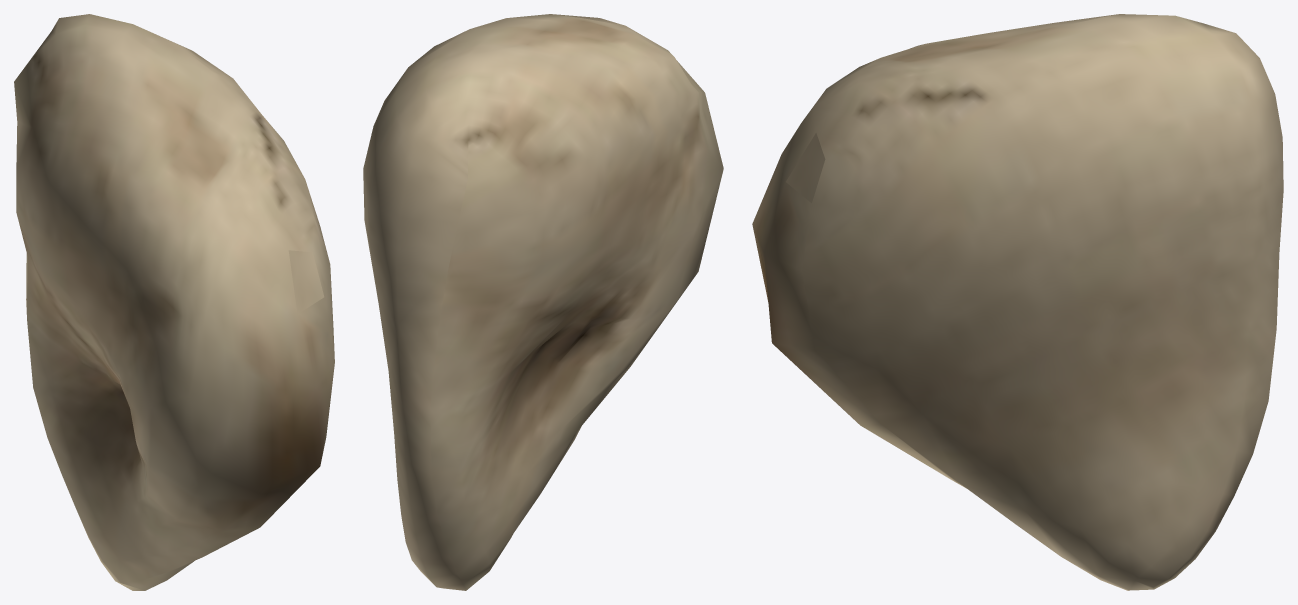
The model's file is Mandibular_Molar1.glb.
The picture shows the model from 3 angles, left to right: view 1: azimuth 30°, elevation 25°; view 2: azimuth 150°, elevation 25°; view 3: azimuth 270°, elevation 25°; orthographic projection. The views are drawn at different scales.
Visible parts, largest first — view 1: Molar1; view 2: Molar1; view 3: Molar1.
Boxes of the visible parts, left/top/right/bottom form: Molar1: left=14, top=14, right=334, bottom=590; Molar1: left=363, top=14, right=723, bottom=590; Molar1: left=752, top=14, right=1283, bottom=590.
Bounding box in the file's own units: 0.0135 × 0.0337 × 0.0287.
1 material, 1 textured.
